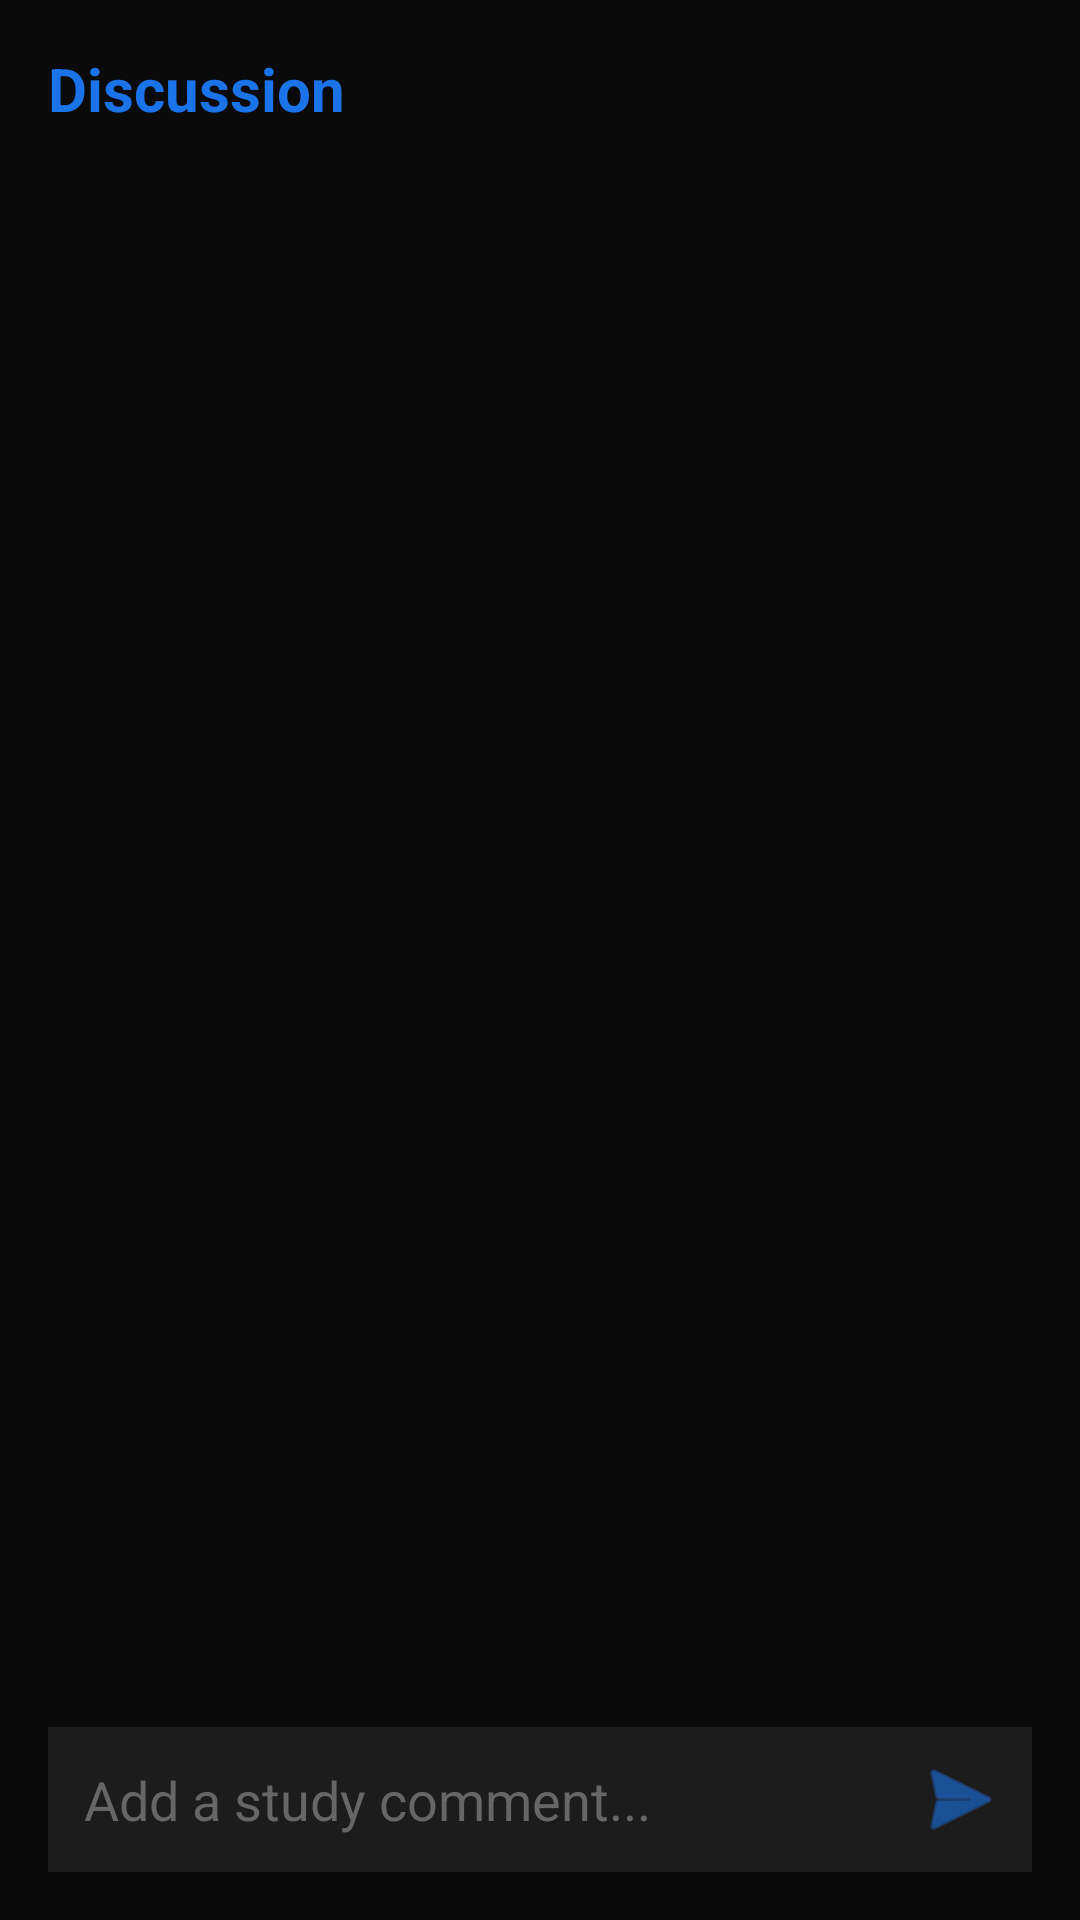

Point at icon controls on the screen. Image size 1080px×1920px, points as (x=x, y=y).
Send Comment: (x=961, y=1799)
